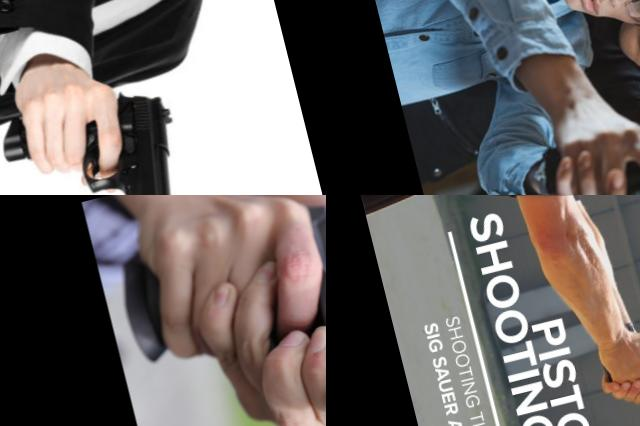handgun: (105, 195, 326, 426), (0, 73, 202, 195), (531, 106, 640, 195), (593, 325, 640, 426)
